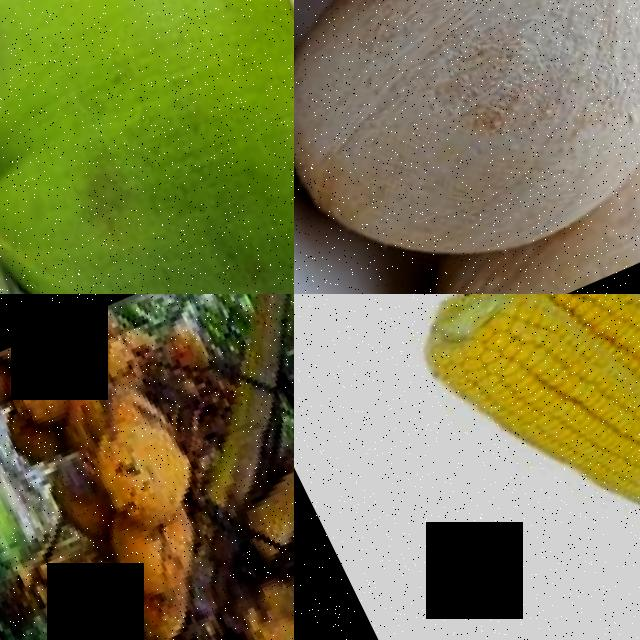coconut: (294, 0, 640, 294), (0, 0, 294, 294), (294, 0, 630, 71)
coconuts: (0, 294, 257, 638)
corn: (421, 294, 640, 583), (571, 294, 640, 351)
